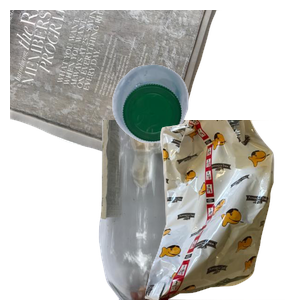glass: (96, 120, 283, 300)
paper: (10, 10, 222, 176)
plastic: (110, 62, 300, 198)
trash: (127, 120, 300, 300)
